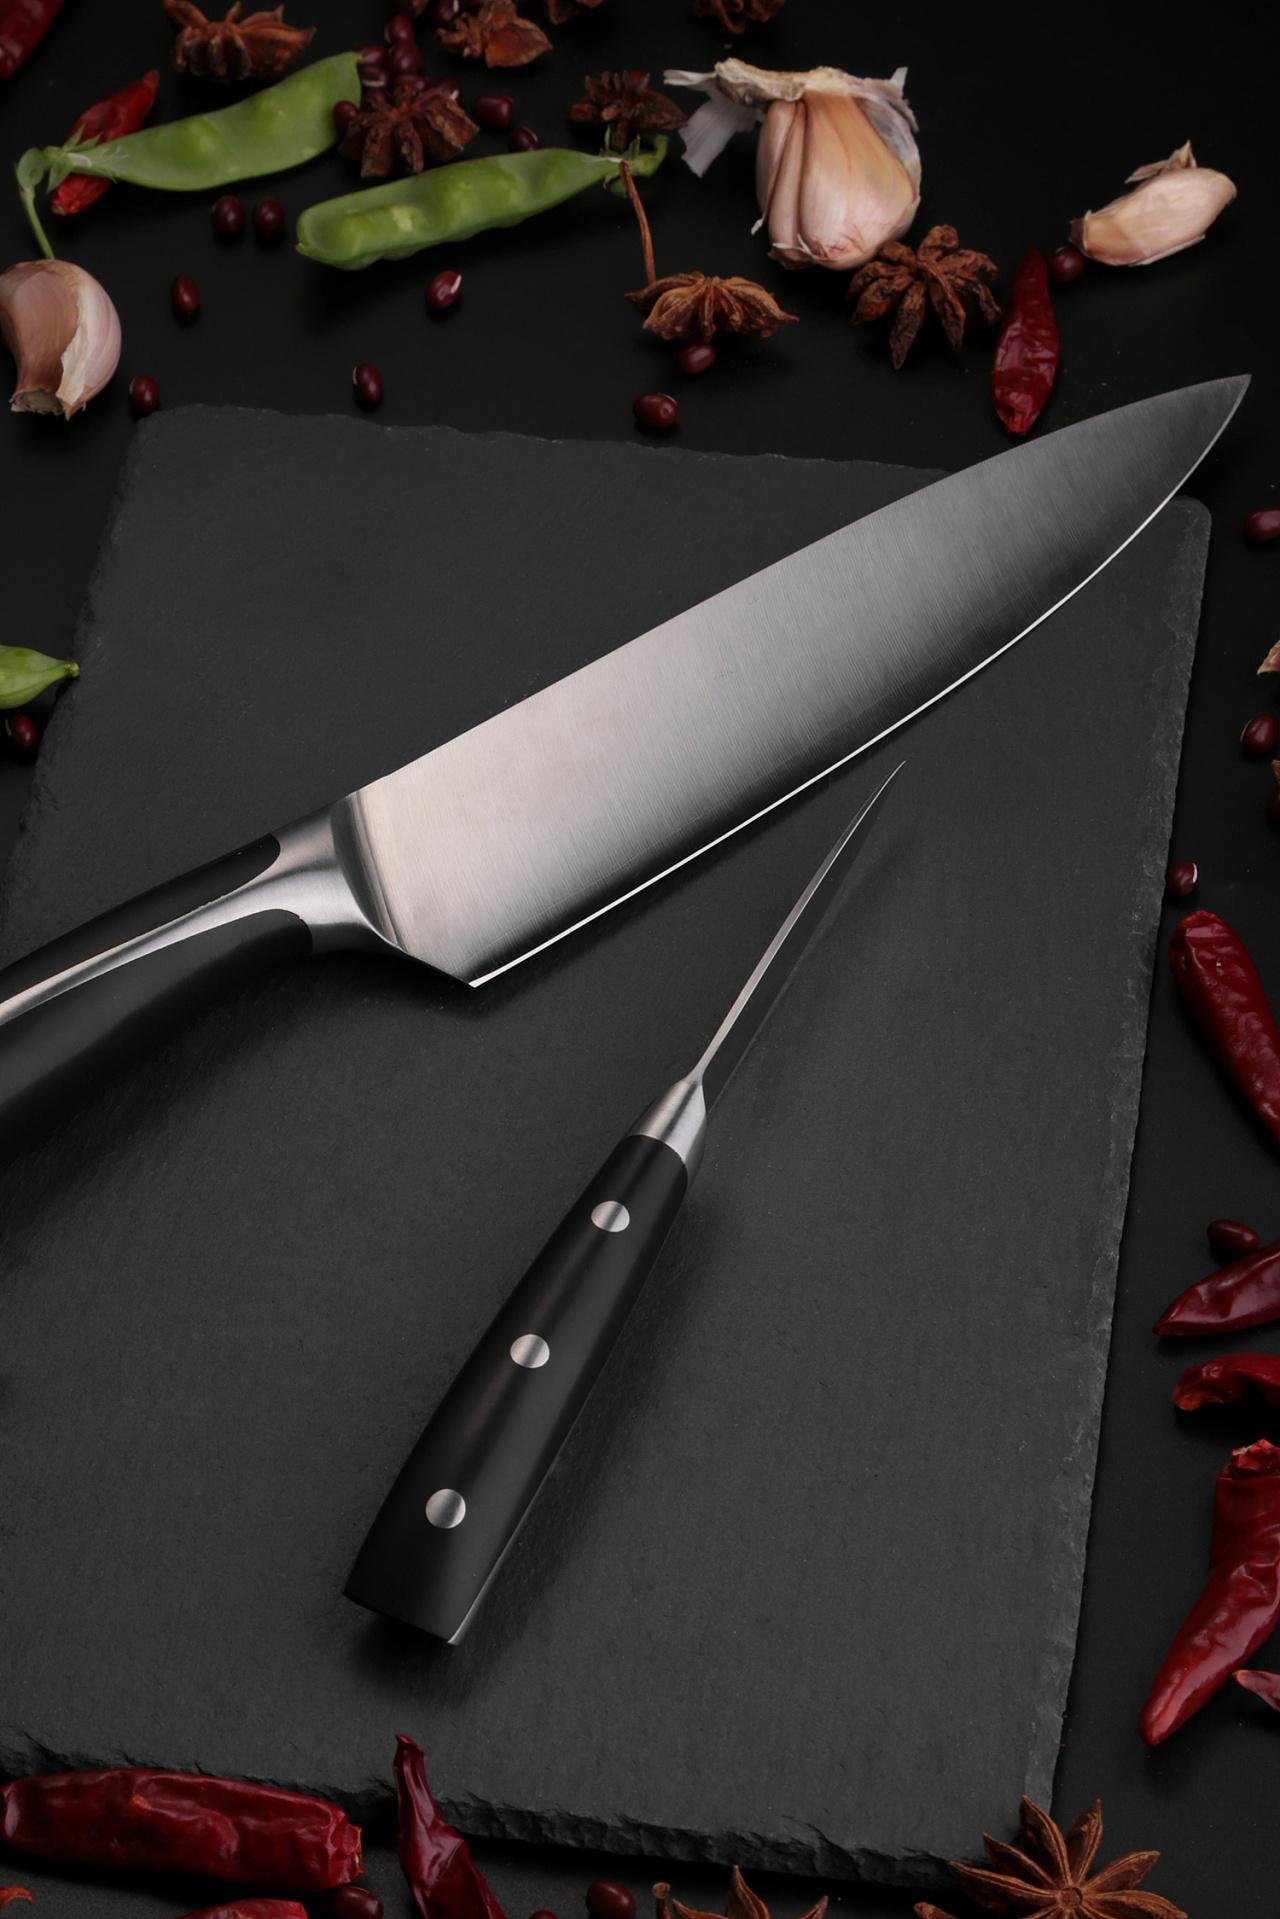knife: (14, 253, 1234, 1658)
